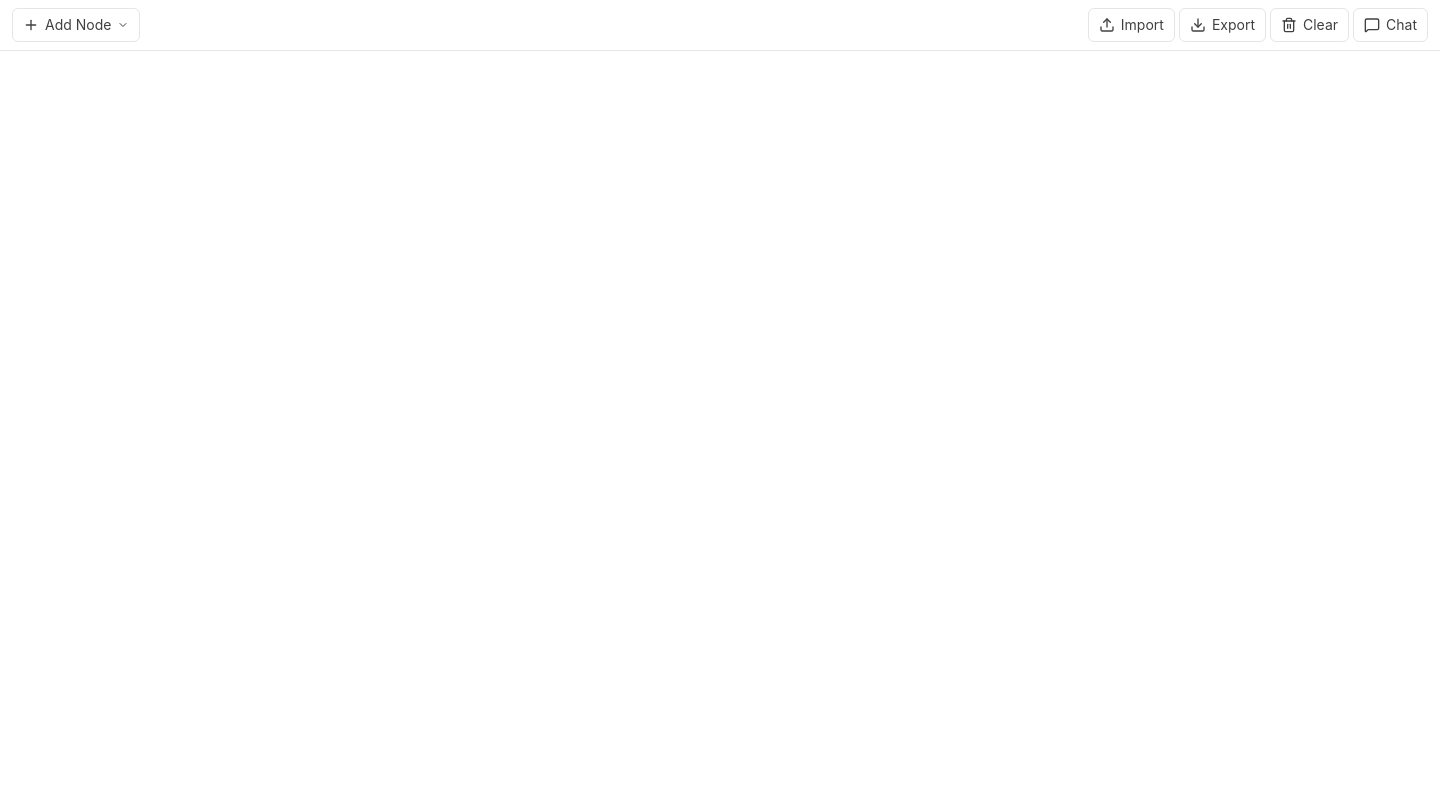
Test case: Toolbar › closes the menu when a click lands outside
Click the button with test id "toolbar-add-button". click: (76,25)
box: x1=12 y1=8 x2=140 y2=42
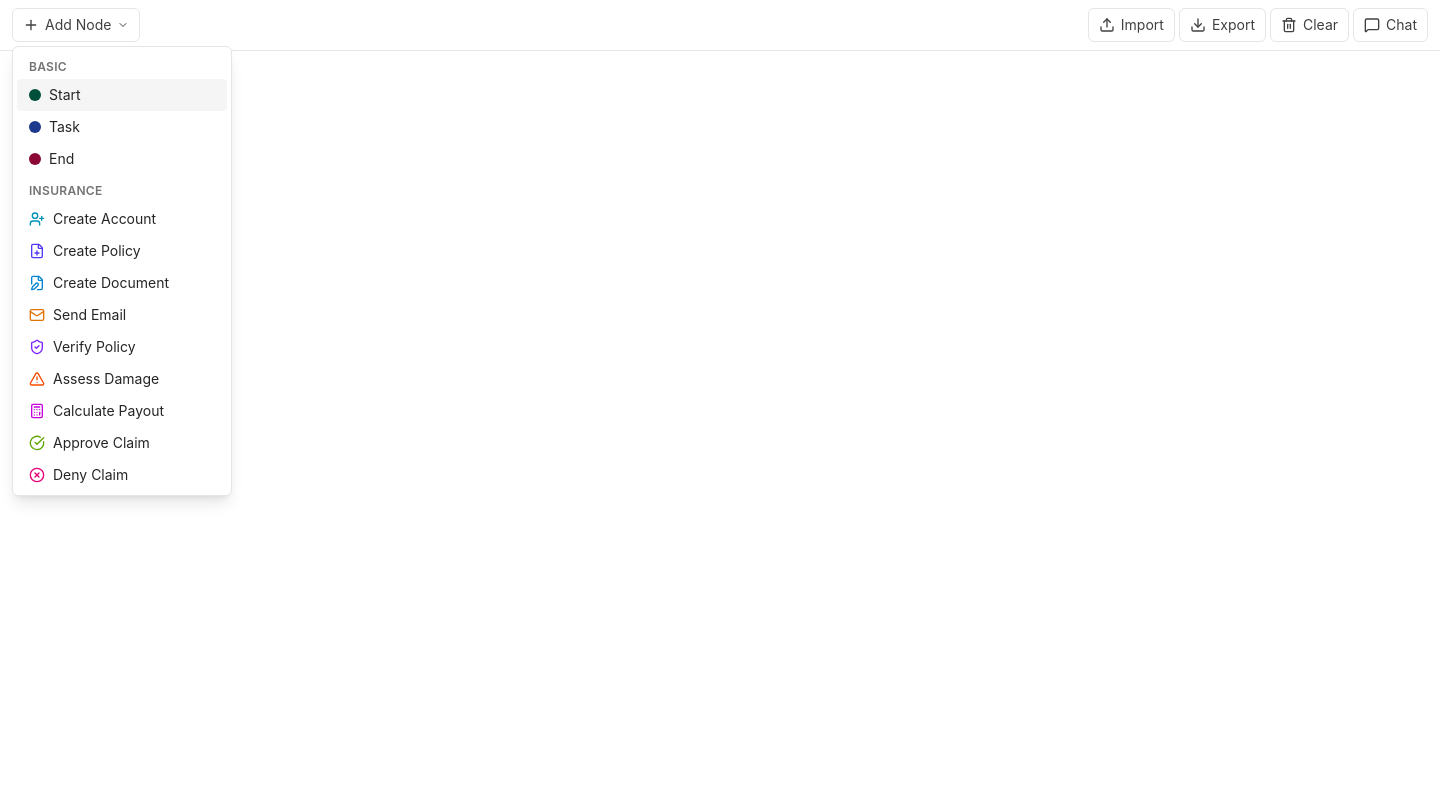
Now the menu with test id "toolbar-add-menu" is shown, box x1=12 y1=46 x2=232 y2=496
Note: Click somewhere outside — body itself
Press the mouse on the element that starts with "Add Node" at (720,405), box x1=0 y1=0 x2=1439 y2=809
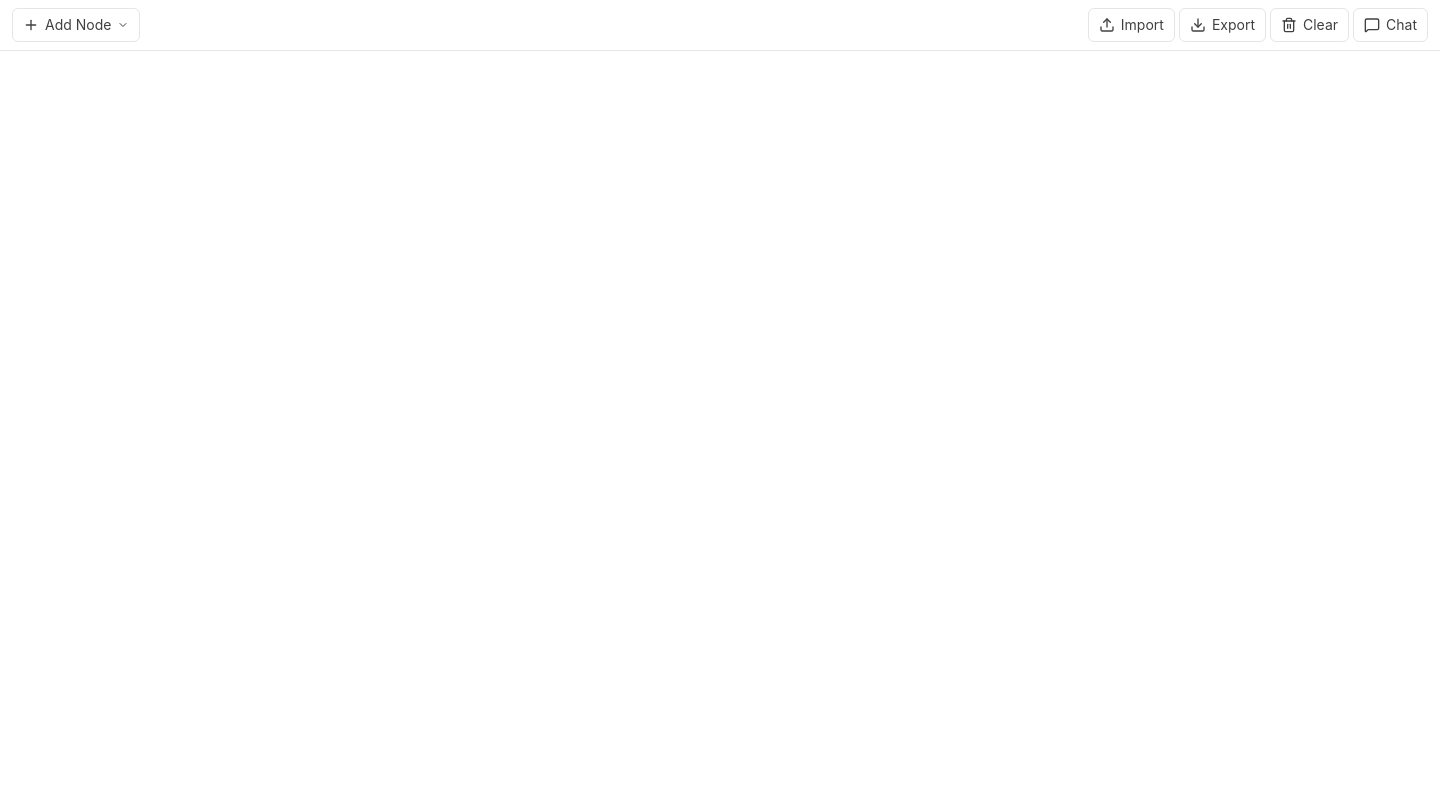
Now the menu with test id "toolbar-add-menu" is gone
